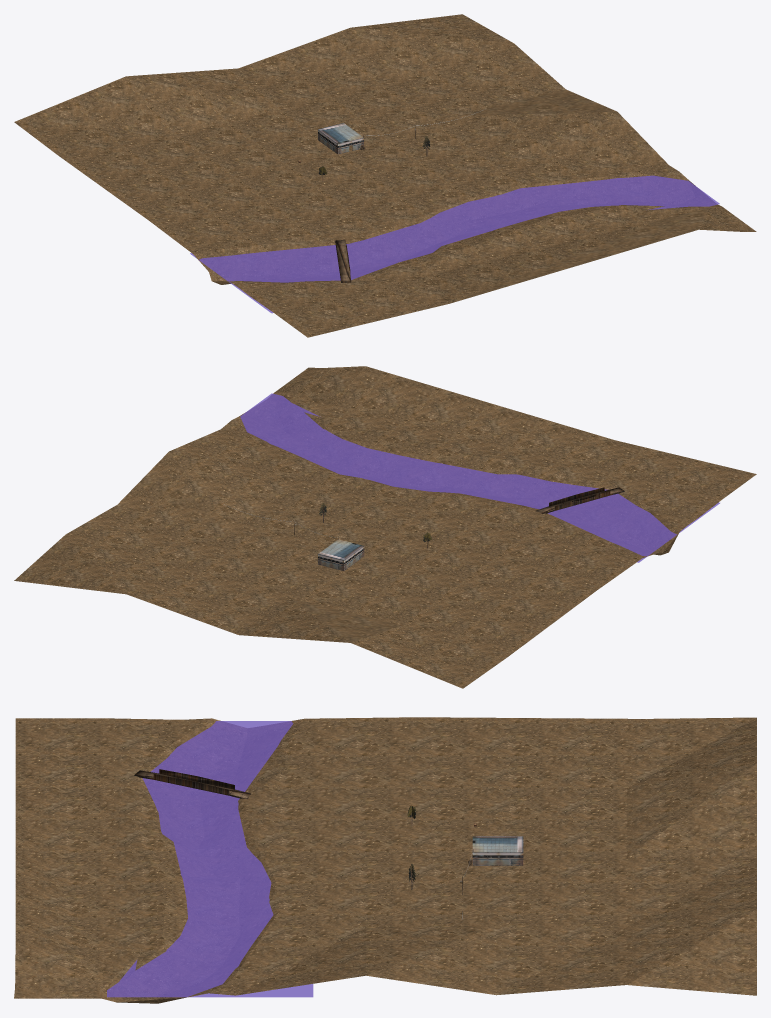
The model's file is WaterlandEmpty.scene.glb.
3 views of the same model, one above another, from view 1: azimuth 30°, elevation 25°; view 2: azimuth 150°, elevation 25°; view 3: azimuth 270°, elevation 25° (orthographic). The views are drawn at different scales.
Parts seen in each view (by area): view 1: Lendscape, Water, Build_@Static; view 2: Lendscape, Water, Build_@Static, Bridge; view 3: Lendscape, Water, Build_@Static, Bridge.
Boxes of the visible parts, x1=… form: Lendscape: x1=14, y1=14, x2=756, y2=337; Water: x1=190, y1=175, x2=719, y2=313; Build_@Static: x1=318, y1=123, x2=363, y2=154; Lendscape: x1=14, y1=366, x2=756, y2=688; Water: x1=240, y1=393, x2=719, y2=562; Build_@Static: x1=318, y1=539, x2=364, y2=570; Bridge: x1=535, y1=487, x2=624, y2=513; Lendscape: x1=14, y1=717, x2=756, y2=1003; Water: x1=107, y1=721, x2=313, y2=997; Build_@Static: x1=472, y1=836, x2=523, y2=865; Bridge: x1=134, y1=769, x2=251, y2=798.
Bounding box in the file's own units: 261 × 19.4 × 294.
Materials: 10 (7 with a texture image).
